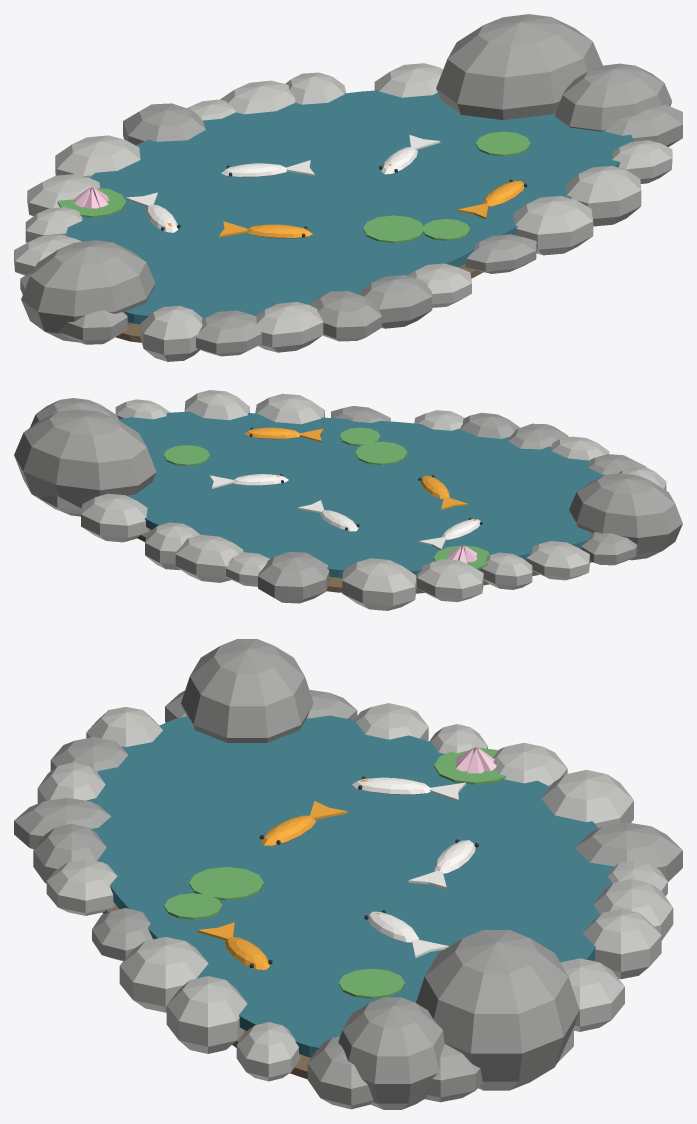
File: jp_koi_pond.glb
3 views of the same model, one above another, from view 1: azimuth 30°, elevation 25°; view 2: azimuth 150°, elevation 25°; view 3: azimuth 270°, elevation 25° (orthographic). The views are drawn at different scales.
Parts seen in each view (by area): view 1: jp_koi_pond; view 2: jp_koi_pond; view 3: jp_koi_pond.
Boxes of the visible parts, bbox=[...] form: jp_koi_pond: bbox=[14, 14, 682, 361]; jp_koi_pond: bbox=[14, 390, 682, 610]; jp_koi_pond: bbox=[14, 639, 682, 1109].
Bounding box in the file's own units: 2.34 × 0.36 × 1.61.
